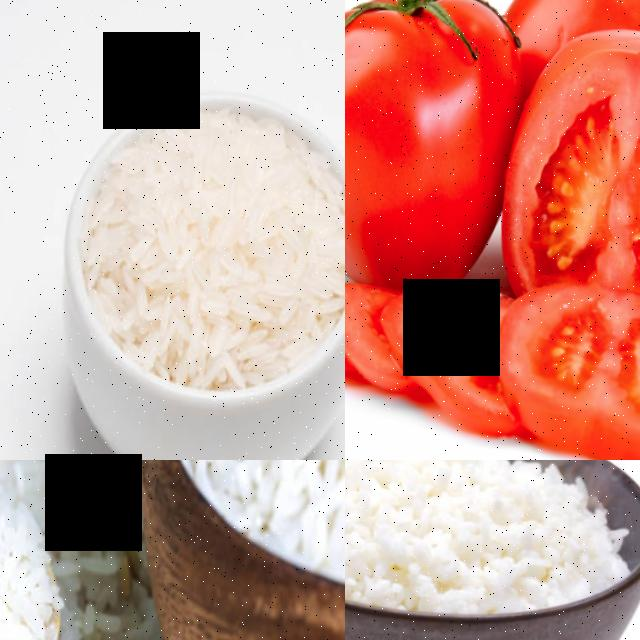tomato: (345, 0, 532, 298), (495, 9, 640, 337), (491, 265, 640, 460)
white rice: (82, 94, 345, 388), (345, 460, 638, 620), (0, 479, 53, 640)
